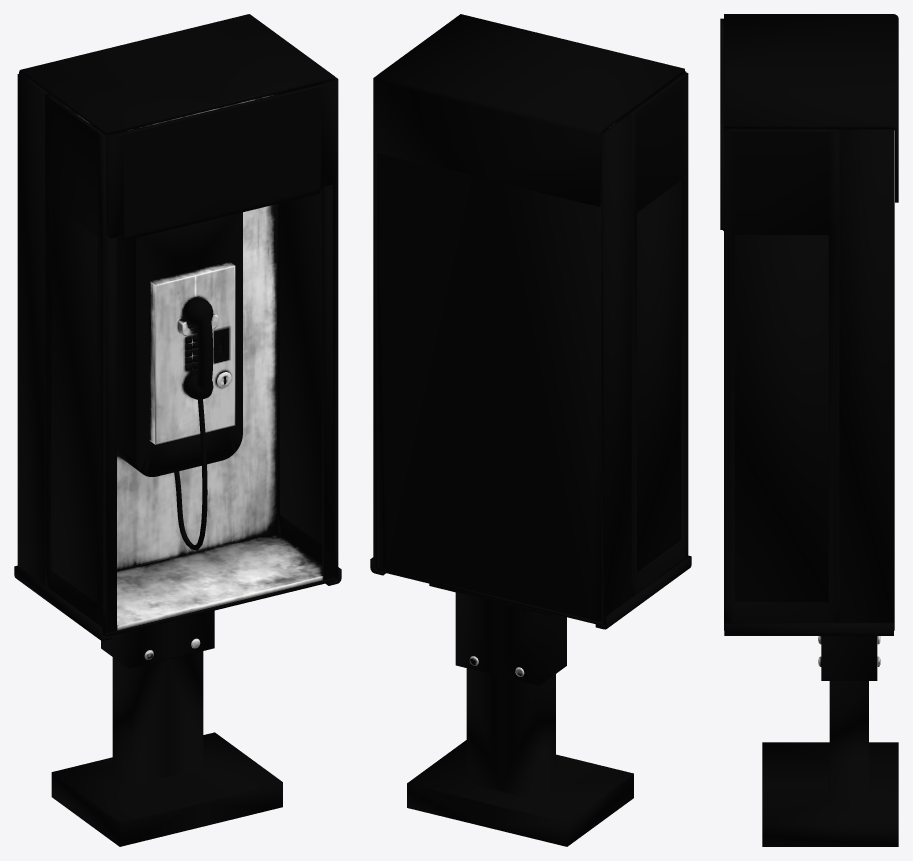
Rendered from payphone.fbx.
The picture shows the model from 3 angles, left to right: view 1: azimuth 30°, elevation 25°; view 2: azimuth 150°, elevation 25°; view 3: azimuth 270°, elevation 25°; orthographic projection.
Visible parts, largest first — view 1: Payphone; view 2: Payphone; view 3: Payphone.
Boxes of the visible parts, left/top/right/bottom form: Payphone: left=14, top=14, right=341, bottom=846; Payphone: left=370, top=14, right=691, bottom=846; Payphone: left=720, top=14, right=898, bottom=846.
Bounding box in the file's own units: 65.53 × 190 × 41.77.
